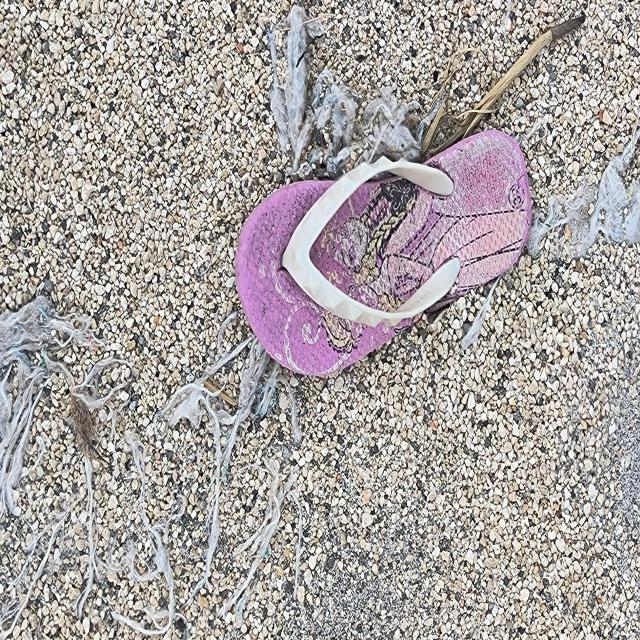rubber_waste: (236, 131, 532, 379)
